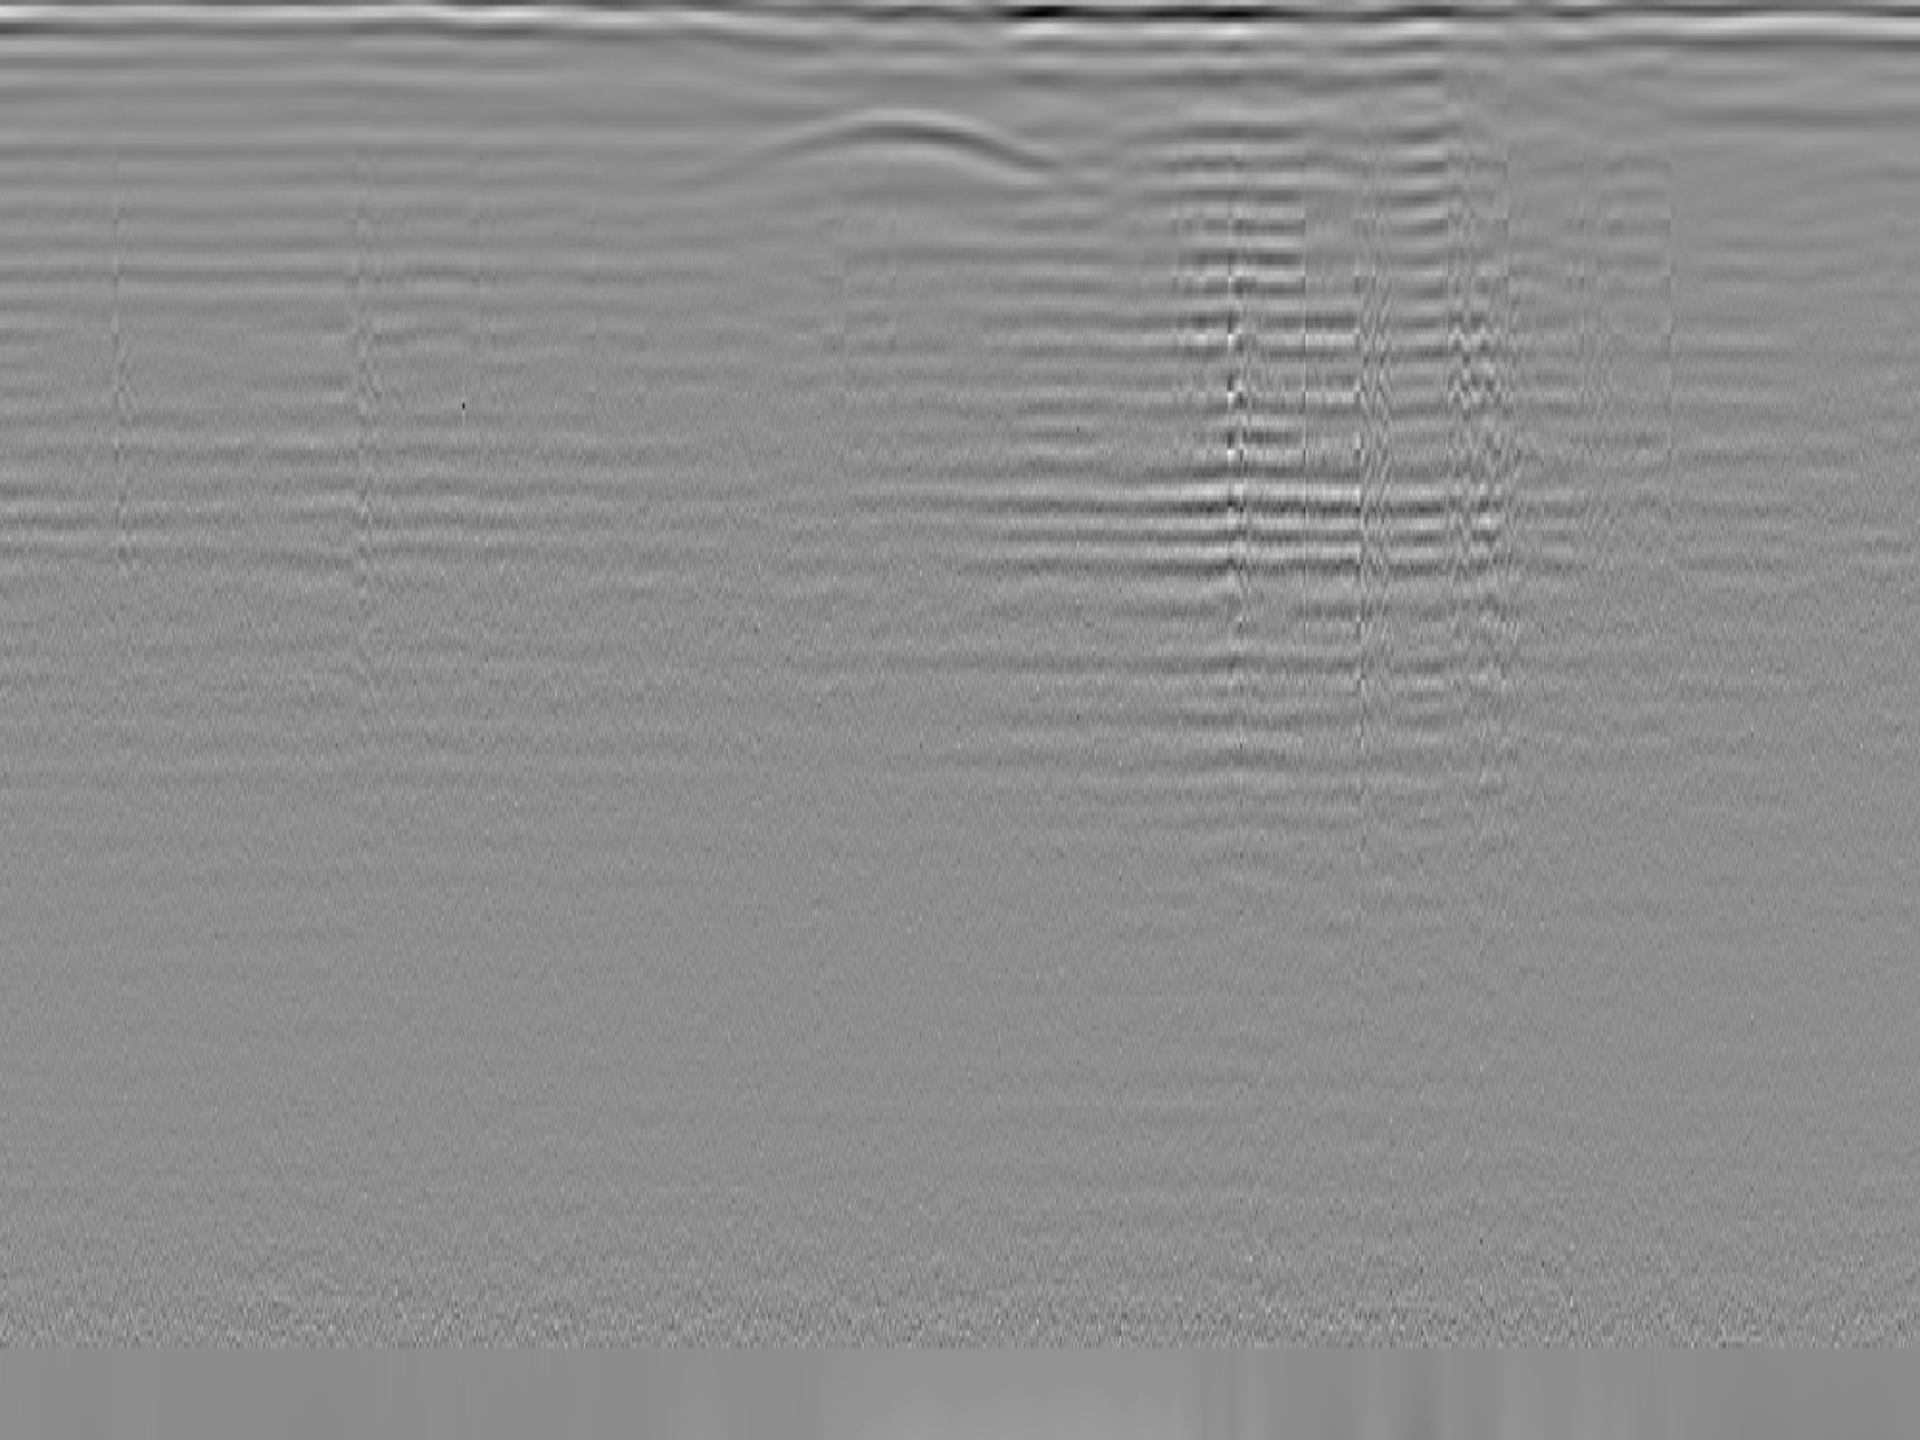Tunnel: (698, 109, 1076, 178)
